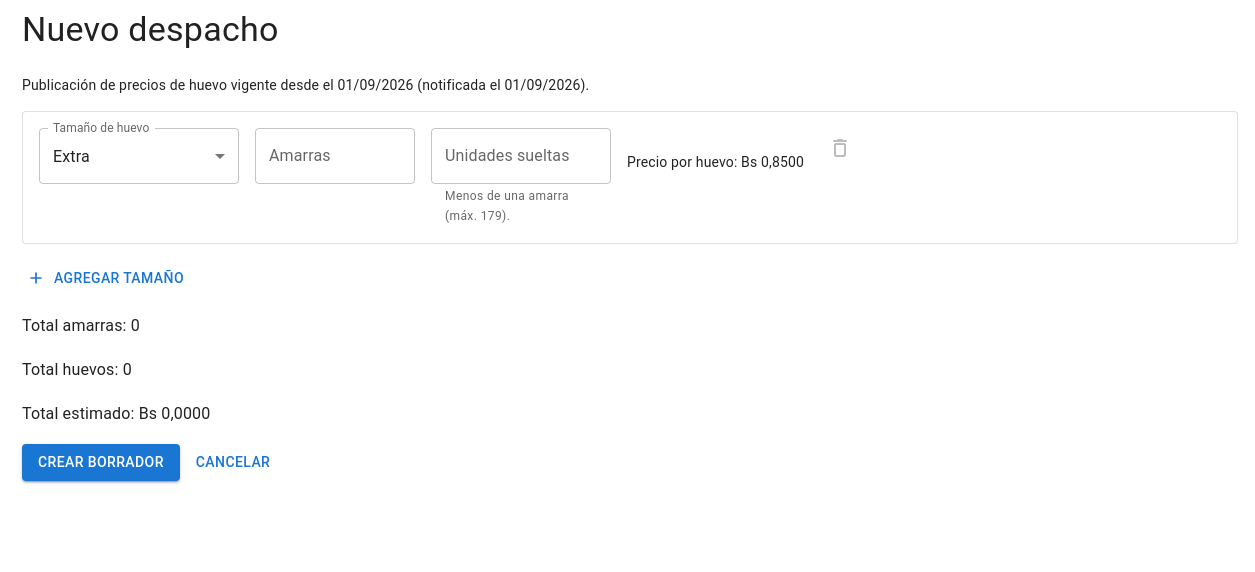
Test: DespachoHuevoFormularioPage › rechaza una línea vacía
Check: the number field labelled "Amarras" is shown, box top-left (255, 128), bottom-right (415, 184)
Step 1. Click the button "Crear borrador" → {"x": 101, "y": 463}, box top-left (22, 444), bottom-right (180, 481)
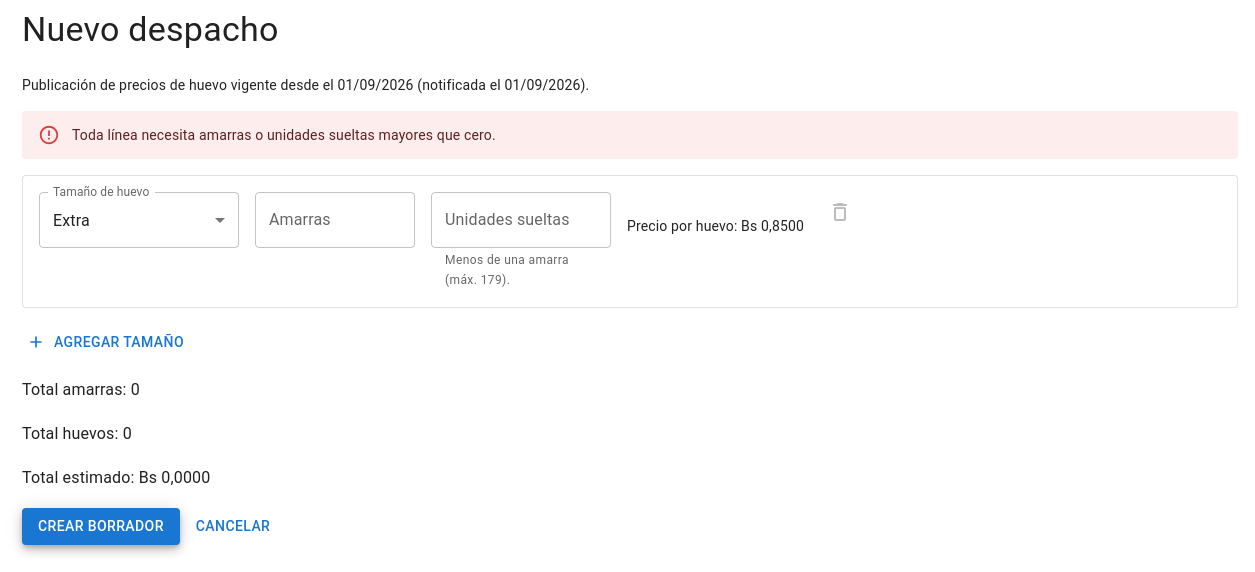
Check: the text "amarras o unidades sueltas" is shown, box top-left (72, 127), bottom-right (496, 143)
